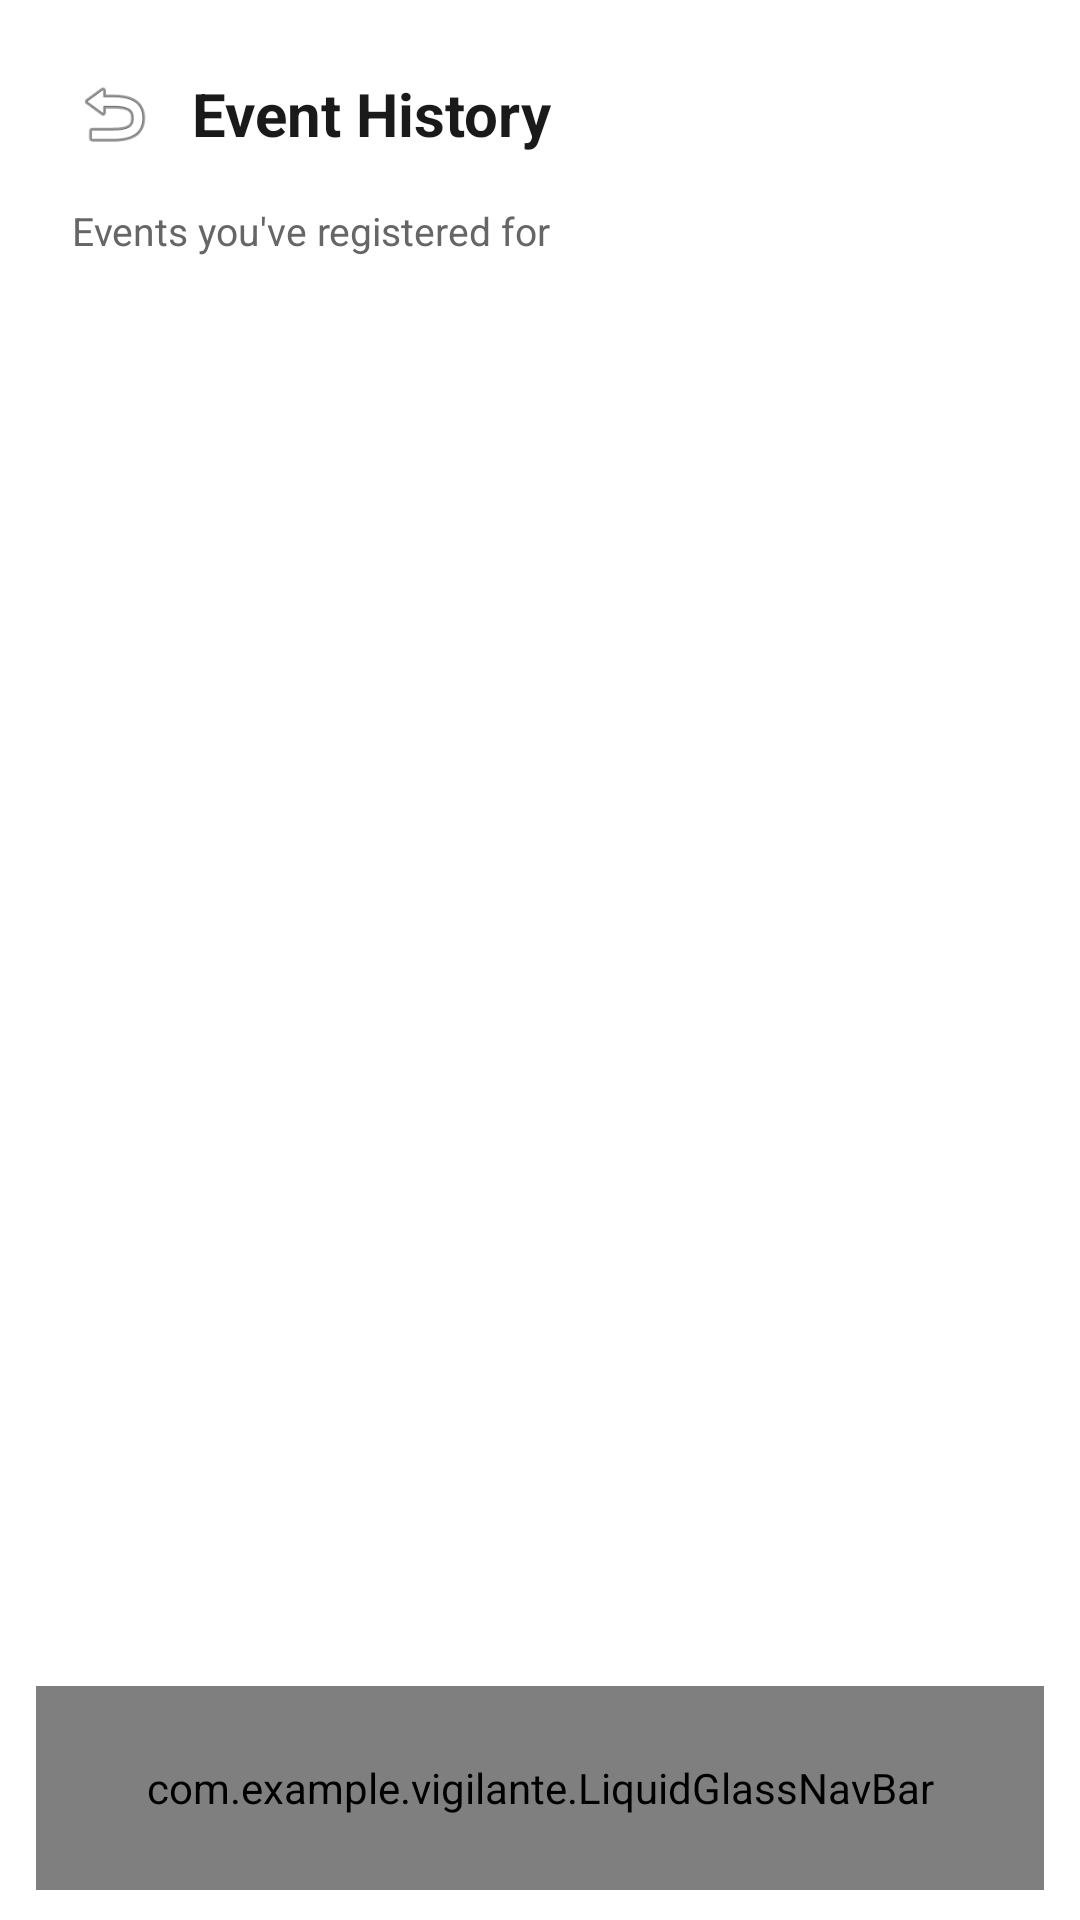

Icon bounding boxes for this 1080px×1920px phone screenshot, format (x1, y1, x2, y2):
Back: (85, 87, 146, 142)
